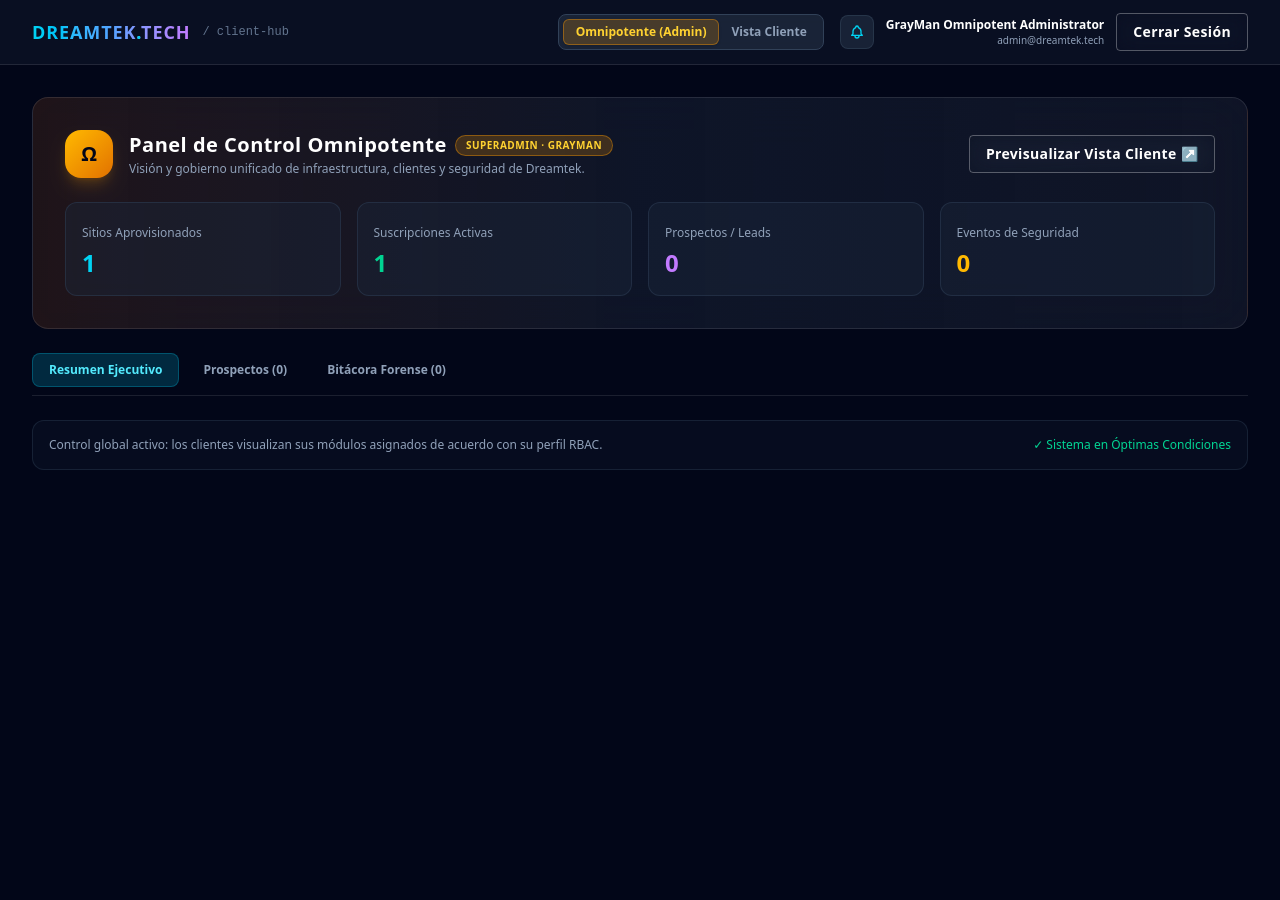
Test case: ClientDashboardPage (Modular Hub Launchpad - FC 051) › debe renderizar vista SUPERADMIN para GrayMan y conmutar entre vista admin y cliente
Expected: the heading "Panel de Control Omnipotente" is shown, [129, 131, 447, 159]
Expected: the text "SUPERADMIN · GrayMan" is shown, [455, 134, 613, 156]
// Conmutar a vista cliente vía toggle bar
Click the button "Vista Cliente".
click(769, 32)  # box [720, 20, 819, 44]
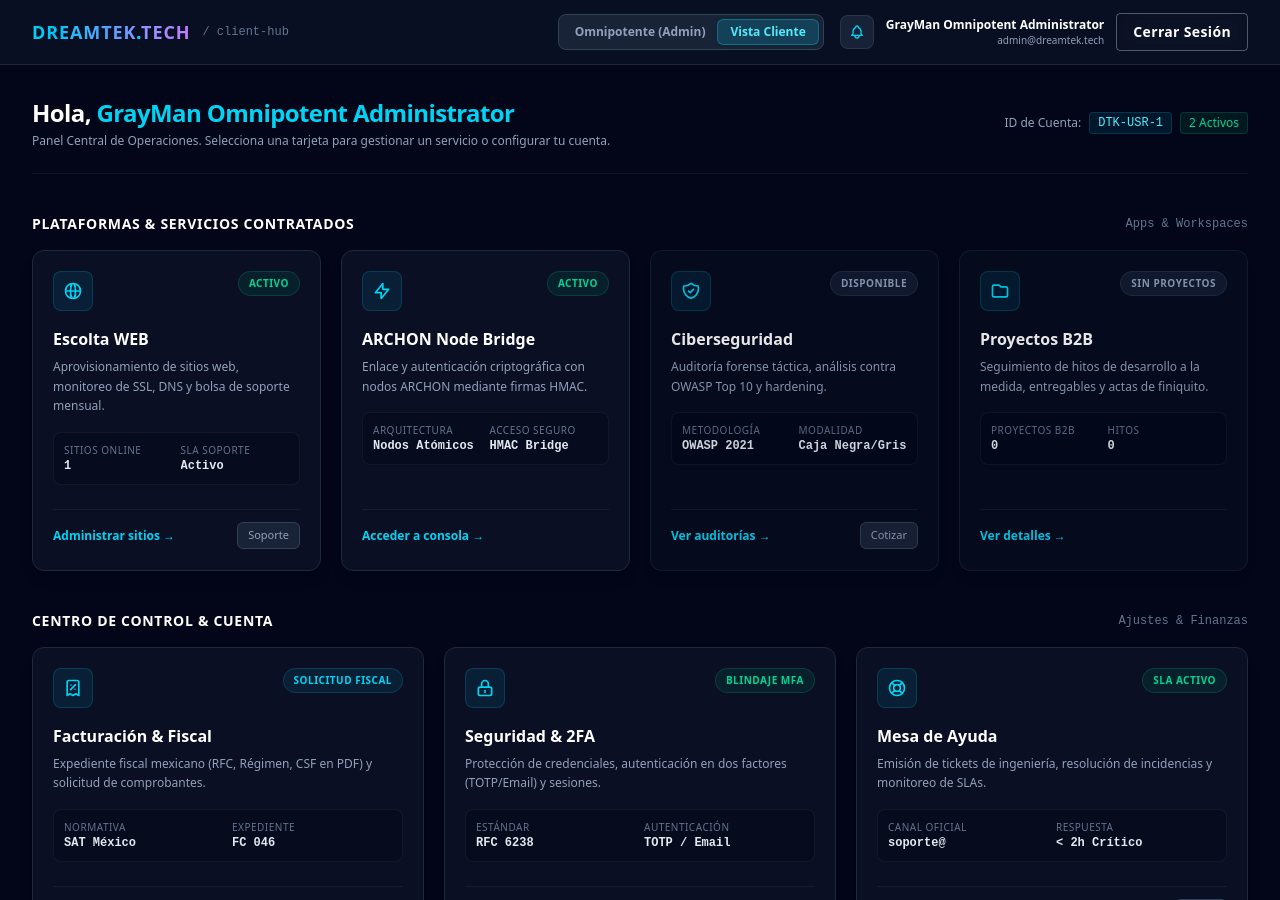
Expected: the heading "Hola, GrayMan Omnipotent Administrator" is shown, [32, 96, 514, 129]
Expected: the text "DTK-USR-1" is shown, [1089, 112, 1172, 134]
// Conmutar de vuelta a vista admin
Click the button "Omnipotente (Admin)".
click(640, 32)  # box [563, 20, 718, 44]
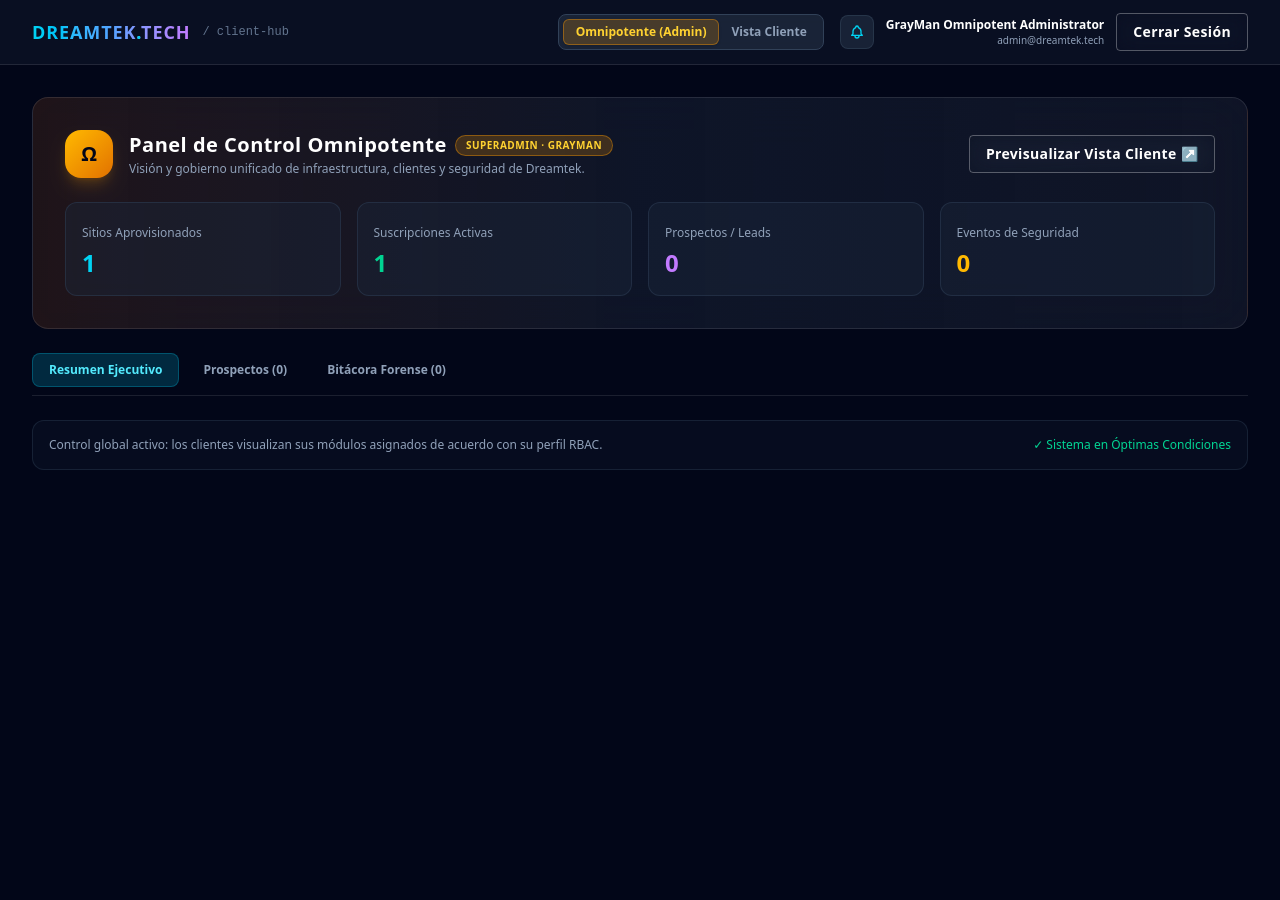
Expected: the heading "Panel de Control Omnipotente" is shown, [129, 131, 447, 159]
// Conmutar a vista cliente vía botón de previsualización en el panel admin
Click the button "Previsualizar Vista Cliente ↗".
click(1092, 154)  # box [969, 135, 1215, 173]
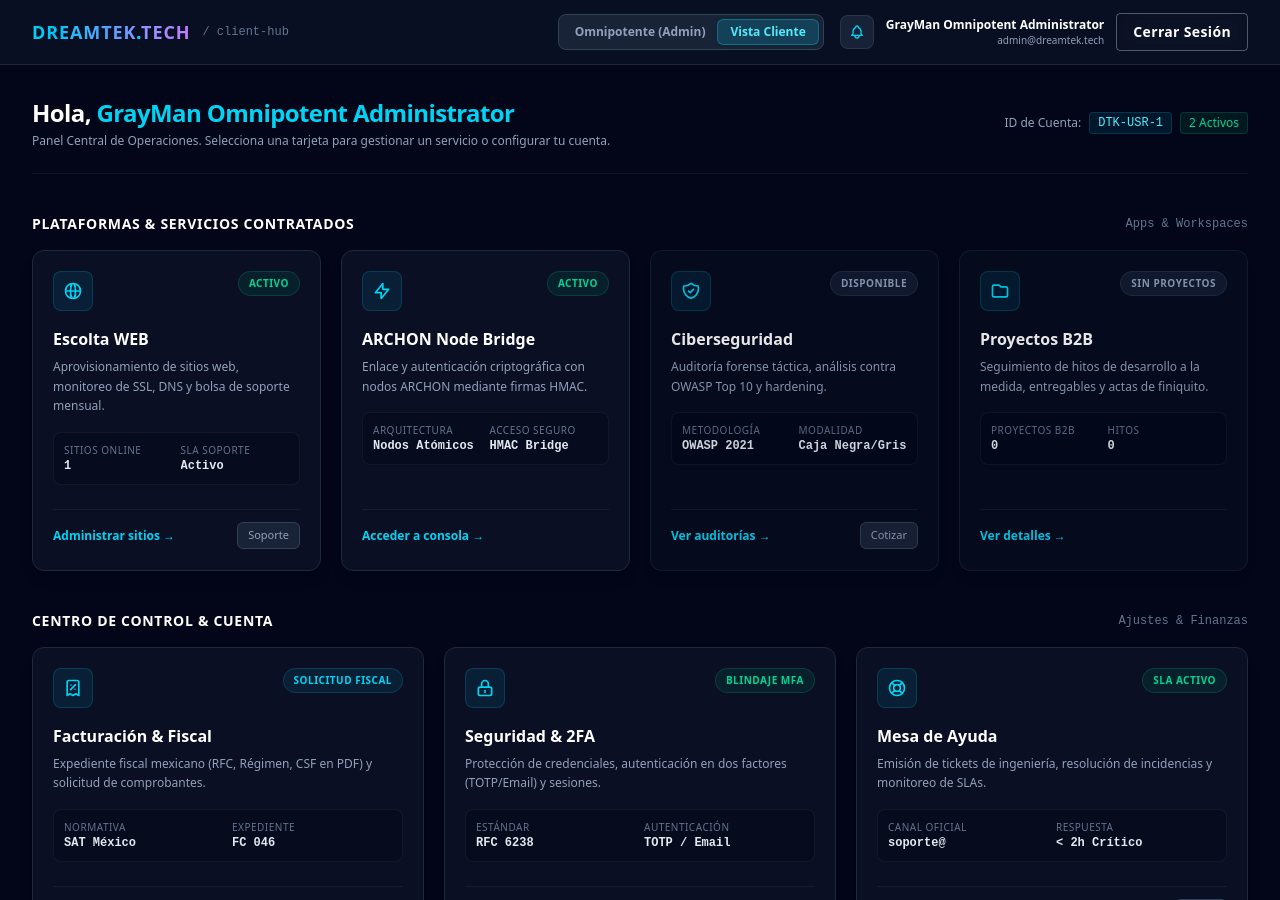
Expected: the heading "Hola, GrayMan Omnipotent Administrator" is shown, [32, 96, 514, 129]
